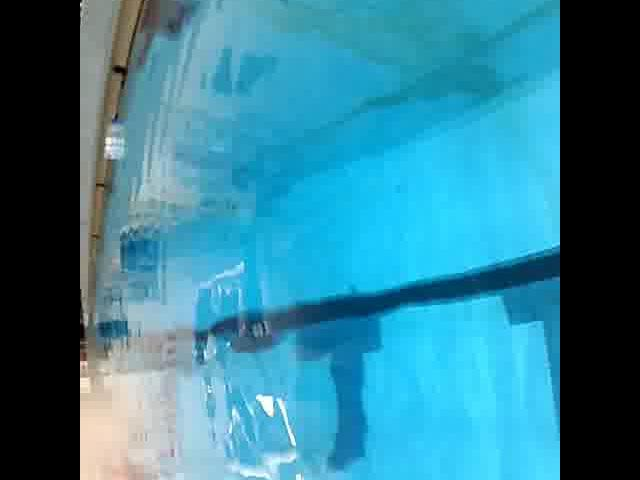Bottle: (98, 112, 130, 174)
